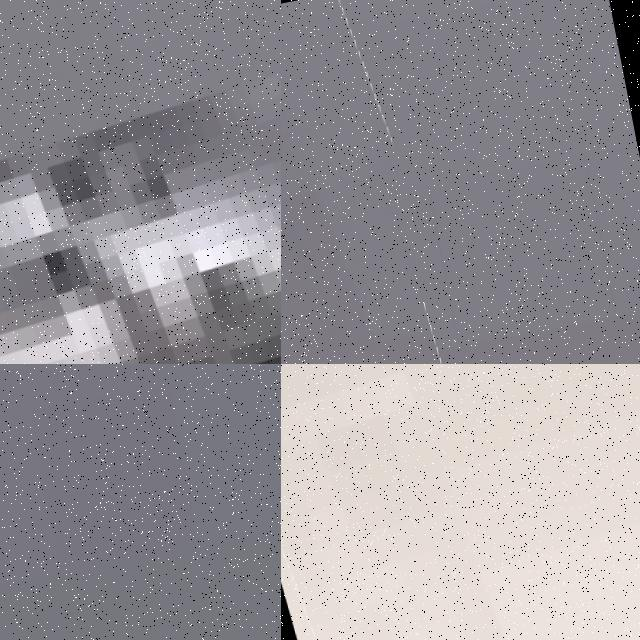drone: (0, 0, 281, 364), (281, 364, 640, 640), (281, 0, 454, 364)
